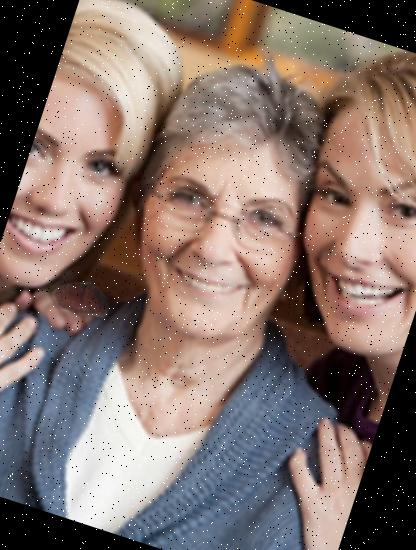Strawberry: (45, 262, 117, 334)
